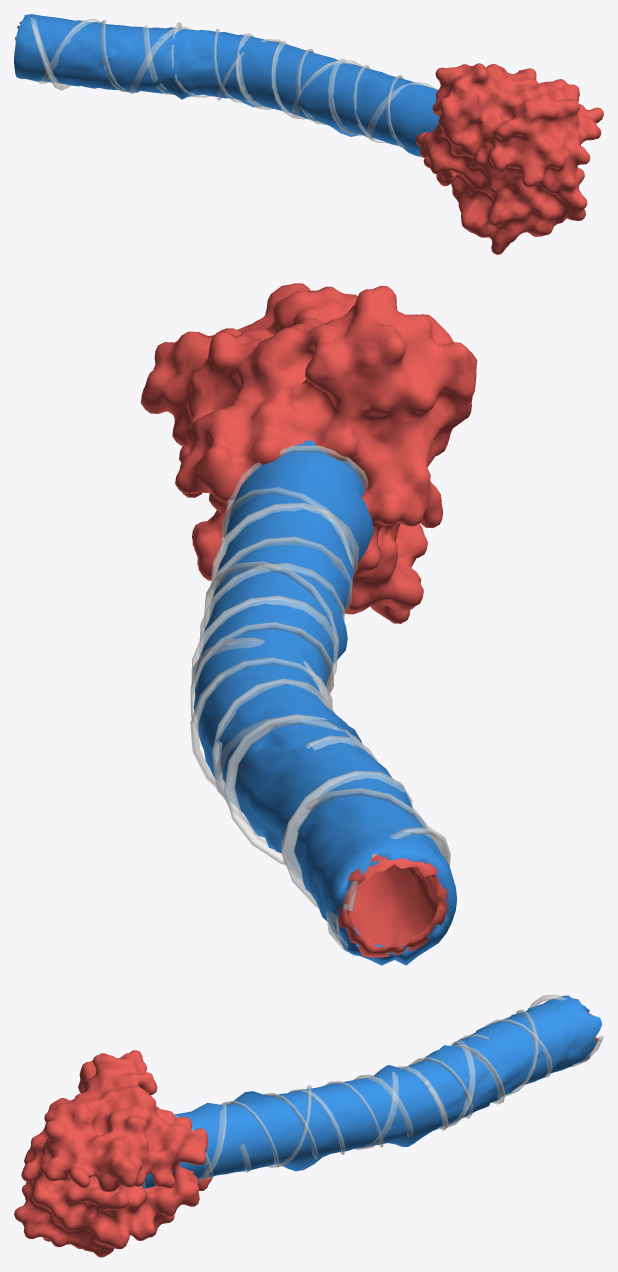
File: cancer.glb
3 renders of one model, top to bottom at view 1: azimuth 30°, elevation 25°; view 2: azimuth 150°, elevation 25°; view 3: azimuth 270°, elevation 25°, orthographic. The views are drawn at different scales.
Parts seen in each view (by area): view 1: Cylinder, Object_4.001, NurbsPath; view 2: Cylinder, Object_4.001, NurbsPath, Cylinder.001; view 3: Cylinder, Object_4.001, NurbsPath.
Part boxes in pixels (<box>): Cylinder: <box>14,14,439,156</box>; Object_4.001: <box>415,63,603,254</box>; NurbsPath: <box>30,17,437,149</box>; Cylinder: <box>193,440,456,965</box>; Object_4.001: <box>140,283,477,623</box>; NurbsPath: <box>190,445,450,951</box>; Cylinder.001: <box>243,763,447,957</box>; Cylinder: <box>142,995,602,1188</box>; Object_4.001: <box>14,1050,212,1257</box>; NurbsPath: <box>141,994,603,1189</box>.
Size of the model in its own units: 0.2218 by 0.1041 by 0.2972.
